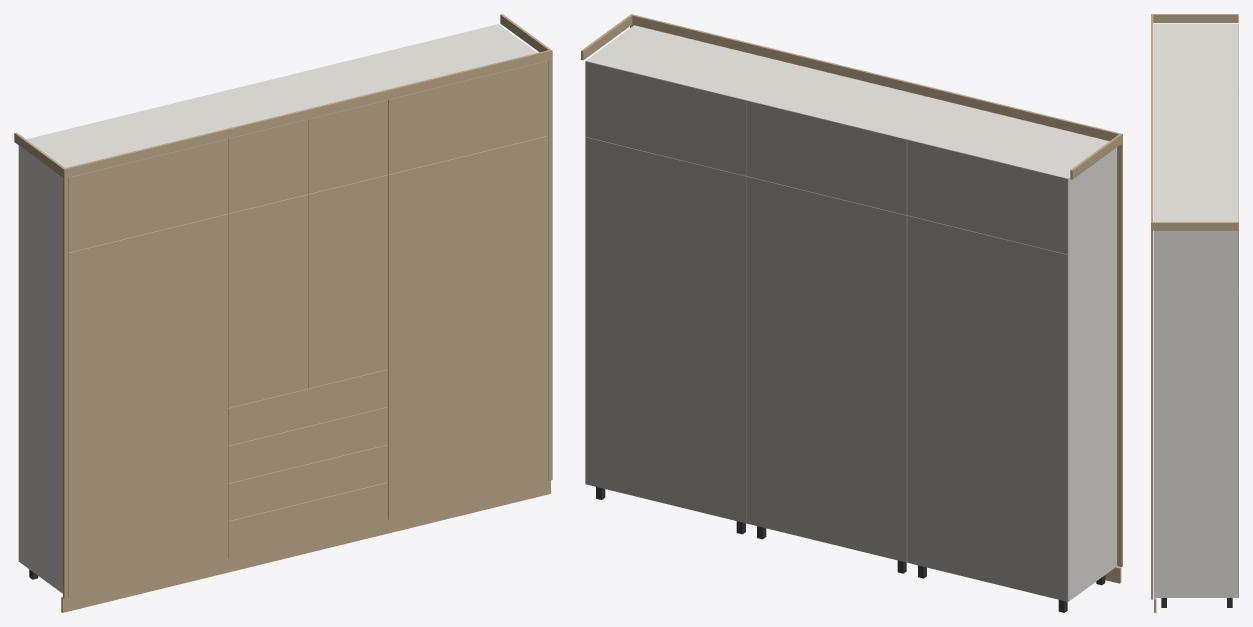
File: shkaf.dae
3 views of the same model, side by side, from view 1: azimuth 30°, elevation 25°; view 2: azimuth 150°, elevation 25°; view 3: azimuth 270°, elevation 25° (orthographic). The views are drawn at different scales.
Visible parts, largest first — view 1: 1-шкаф - Есік 553x2286 (×2), 3-шкаф - Есік 553x2286 (×2), 2-шкаф - Есік 553x1286 (×2), 1-шкаф - Бүйір 2290x580, 1-антресоль - Антресоль есігі (Tip-On) 553x496 (×2), 2-антресоль - Антресоль есігі (Tip-On) 553x496 (×2), 3-антресоль - Антресоль есігі (Tip-On) 553x496 (×2), Декор - Цоколь 1695x100 (×2), 2-шкаф / суырма 1 - Суырма беті 1106x246, 2-шкаф / суырма 2 - Суырма беті 1106x246, 2-шкаф / суырма 3 - Суырма беті 1106x246, 2-шкаф / суырма 4 - Суырма беті 1106x246 (+6 smaller); view 2: 2-шкаф - Арқасы ДВП 1106x2286, 1-шкаф - Арқасы ДВП 1106x2286, 3-шкаф - Арқасы ДВП 1106x2286, 1-шкаф - Бүйір 2290x580, 2-антресоль - Арқасы ДВП 1106x496, 1-антресоль - Арқасы ДВП 1106x496, 3-антресоль - Арқасы ДВП 1106x496, 3-антресоль - Қақпақ 1078x580, 2-антресоль - Қақпақ 1078x580, 1-антресоль - Қақпақ 1078x580, Декор - Корона алды 1695x60 (×2), 1-антресоль - Бүйір 500x580 (+1 smaller); view 3: 3-шкаф - Бүйір 2290x580, 1-антресоль - Қақпақ 1078x580, 2-антресоль - Қақпақ 1078x580, 3-антресоль - Бүйір 500x580 (×2), 3-антресоль - Қақпақ 1078x580, Декор - Корона бүйірі 584x60 (×2), Декор - Планка 2790x30, Декор - Корона алды 1695x60 (×2), 1-антресоль - Бүйір 500x580 (×2), 2-антресоль - Бүйір 500x580 (×2), 3-шкаф - Арқасы ДВП 1106x2286.
Boxes of the visible parts, x1,y1,x2,y2 form: 1-шкаф - Есік 553x2286 (×2): (68, 214, 228, 597); 3-шкаф - Есік 553x2286 (×2): (388, 136, 547, 519); 2-шкаф - Есік 553x1286 (×2): (228, 175, 387, 407); 1-шкаф - Бүйір 2290x580: (18, 216, 62, 593); 1-антресоль - Антресоль есігі (Tip-On) 553x496 (×2): (68, 139, 228, 252); 2-антресоль - Антресоль есігі (Tip-On) 553x496 (×2): (228, 99, 387, 213); 3-антресоль - Антресоль есігі (Tip-On) 553x496 (×2): (388, 61, 547, 174); Декор - Цоколь 1695x100 (×2): (61, 480, 550, 612); 2-шкаф / суырма 1 - Суырма беті 1106x246: (228, 482, 387, 558); 2-шкаф / суырма 2 - Суырма беті 1106x246: (228, 444, 387, 520); 2-шкаф / суырма 3 - Суырма беті 1106x246: (228, 407, 387, 483); 2-шкаф / суырма 4 - Суырма беті 1106x246: (228, 369, 387, 445); 2-шкаф - Арқасы ДВП 1106x2286: (746, 176, 906, 562); 1-шкаф - Арқасы ДВП 1106x2286: (907, 215, 1067, 601); 3-шкаф - Арқасы ДВП 1106x2286: (585, 137, 745, 523); 1-шкаф - Бүйір 2290x580: (1066, 219, 1116, 601); 2-антресоль - Арқасы ДВП 1106x496: (746, 100, 906, 214); 1-антресоль - Арқасы ДВП 1106x496: (907, 140, 1067, 254); 3-антресоль - Арқасы ДВП 1106x496: (585, 61, 745, 175); 3-антресоль - Қақпақ 1078x580: (588, 26, 792, 99); 2-антресоль - Қақпақ 1078x580: (749, 65, 952, 138); 1-антресоль - Қақпақ 1078x580: (910, 104, 1108, 178); Декор - Корона алды 1695x60 (×2): (630, 14, 1122, 143); 1-антресоль - Бүйір 500x580: (1066, 147, 1116, 254); 3-шкаф - Бүйір 2290x580: (1154, 295, 1238, 597); 1-антресоль - Қақпақ 1078x580: (1154, 24, 1238, 91); 2-антресоль - Қақпақ 1078x580: (1154, 93, 1238, 159); 3-антресоль - Бүйір 500x580 (×2): (1154, 160, 1238, 295); 3-антресоль - Қақпақ 1078x580: (1154, 161, 1238, 221); Декор - Корона бүйірі 584x60 (×2): (1153, 14, 1238, 230); Декор - Планка 2790x30: (1151, 231, 1153, 599); Декор - Корона алды 1695x60 (×2): (1151, 14, 1153, 230); 1-антресоль - Бүйір 500x580 (×2): (1154, 23, 1238, 92); 2-антресоль - Бүйір 500x580 (×2): (1154, 92, 1238, 160); 3-шкаф - Арқасы ДВП 1106x2286: (1238, 295, 1238, 597).
Bounding box in the file's own units: 3390 × 603 × 2950.
